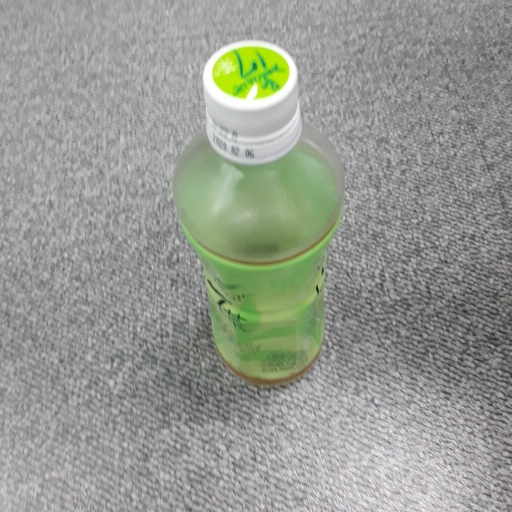Plastic_0: (173, 43, 348, 388)
